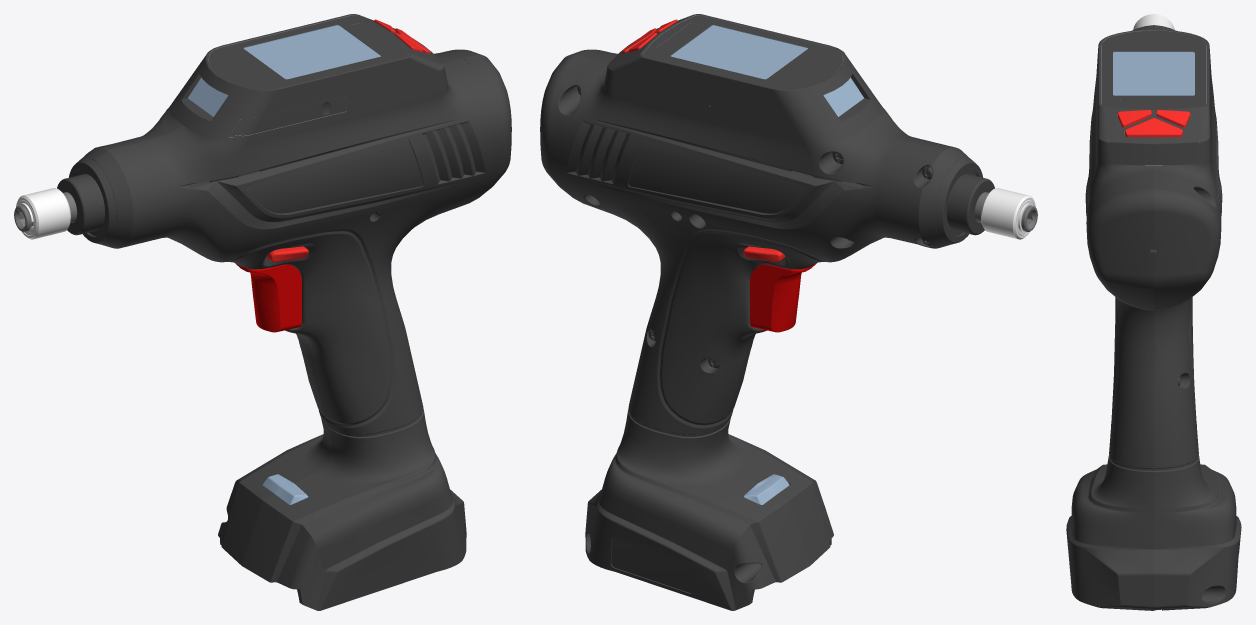
The model's file is 0608842010_NXP012S-36V-B.fbx.
The picture shows the model from 3 angles, left to right: view 1: azimuth 30°, elevation 25°; view 2: azimuth 150°, elevation 25°; view 3: azimuth 270°, elevation 25°; orthographic projection. The views are drawn at different scales.
Bounding box in the file's own units: 226 × 237 × 77.1.
